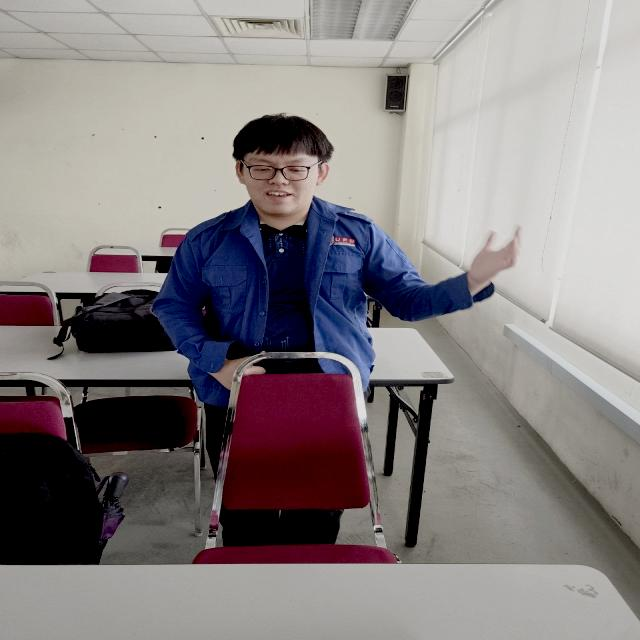person_with_labcoat: (155, 114, 519, 464)
